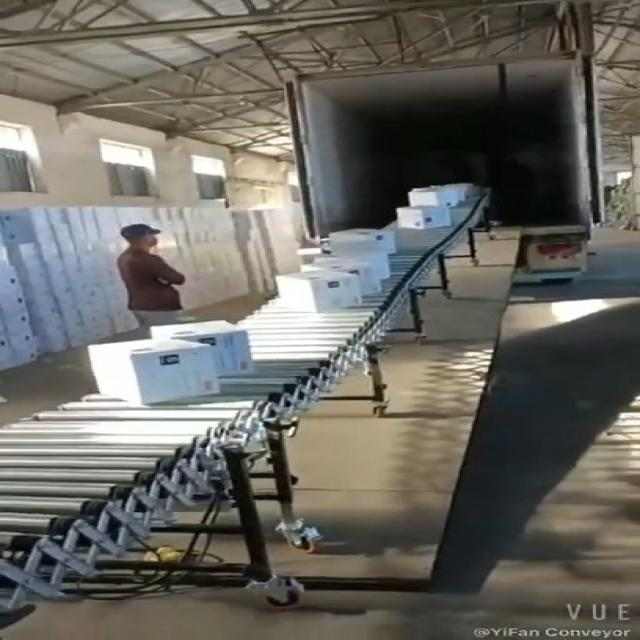Convoyeur: (0, 184, 508, 608)
